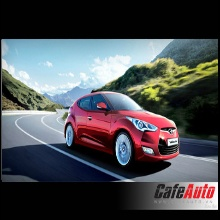no damage: (63, 90, 181, 168)
